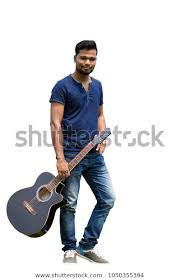Indian_Male: (73, 49, 98, 74)
